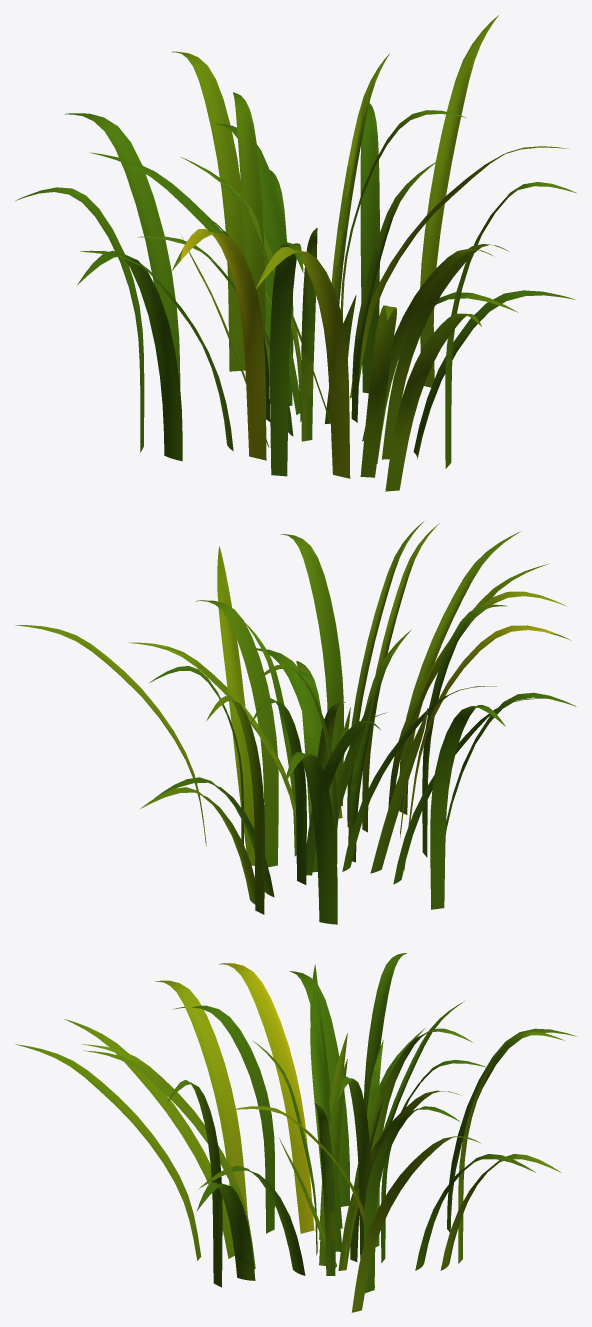
Rendered from GrassAgain.glb.
3 renders of one model, top to bottom at view 1: azimuth 30°, elevation 25°; view 2: azimuth 150°, elevation 25°; view 3: azimuth 270°, elevation 25°, orthographic. The views are drawn at different scales.
Visible parts, largest first — view 1: Grass_20.018; view 2: Grass_20.018; view 3: Grass_20.018.
Part boxes in pixels (x1,y1,x2,y2): Grass_20.018: (15, 15, 576, 491); Grass_20.018: (15, 521, 576, 924); Grass_20.018: (15, 953, 576, 1312).
Size of the model in its own units: 0.4058 by 0.2015 by 0.452.
Materials: 1 (1 with a texture image).
